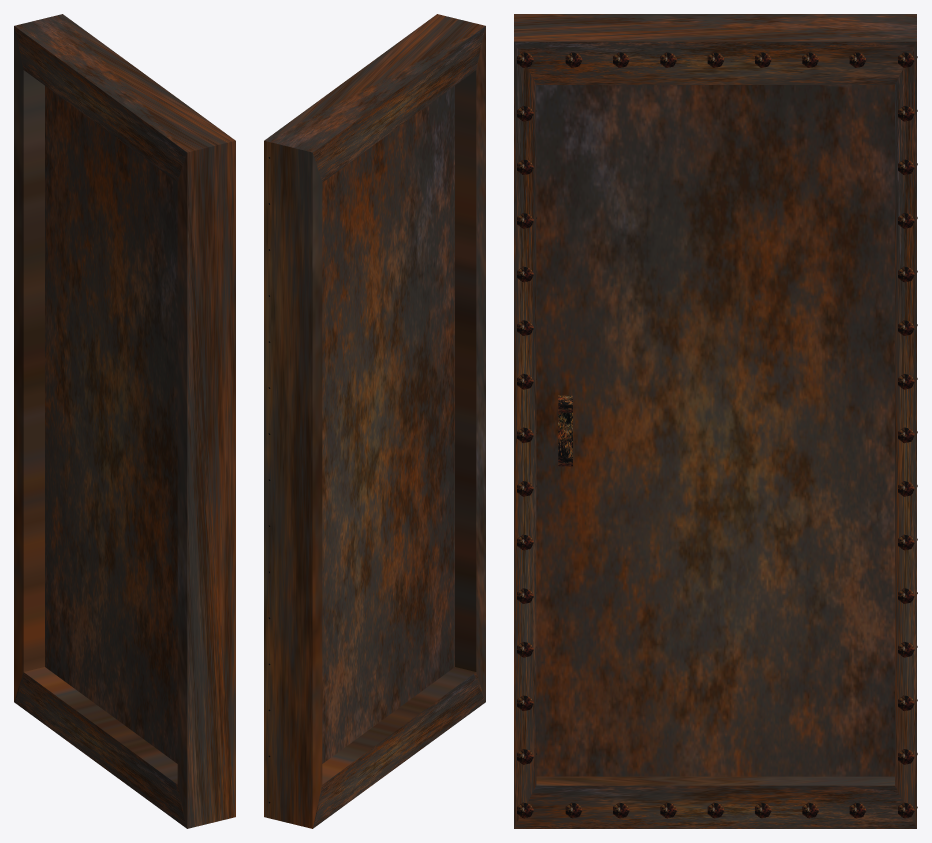
Rendered from RustedDoors.obj.
The picture shows the model from 3 angles, left to right: view 1: azimuth 30°, elevation 25°; view 2: azimuth 150°, elevation 25°; view 3: azimuth 270°, elevation 25°; orthographic projection. The views are drawn at different scales.
Visible parts, largest first — view 1: Cube; view 2: Cube; view 3: Cube.
Part boxes in pixels (left/top/right/bottom): Cube: left=14, top=14, right=235, bottom=828; Cube: left=264, top=14, right=485, bottom=828; Cube: left=514, top=14, right=916, bottom=828.
Size of the model in its own units: 0.5938 by 7.35 by 3.41.
